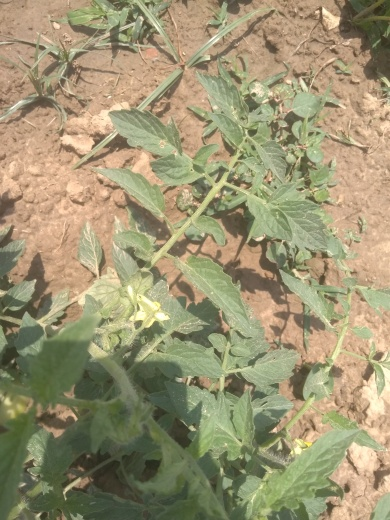tomato flower: (127, 292, 170, 335)
tomato plant: (13, 235, 352, 507), (83, 107, 324, 343)
